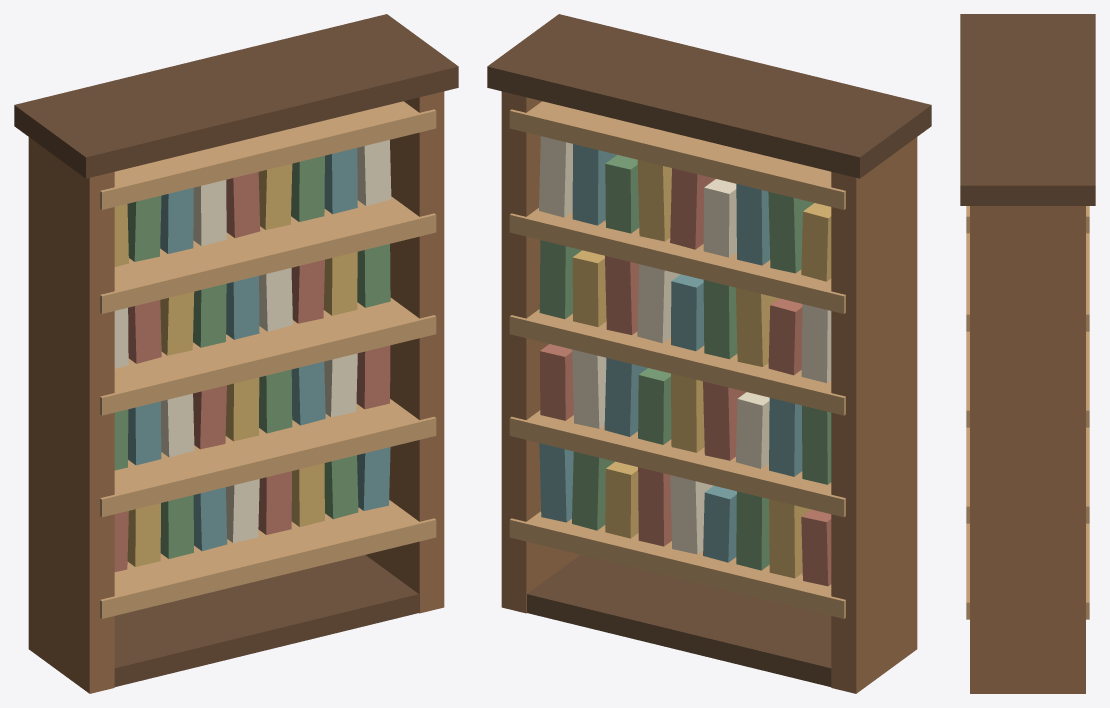
File: bookshelf.glb
3 renders of one model, left to right at view 1: azimuth 30°, elevation 25°; view 2: azimuth 150°, elevation 25°; view 3: azimuth 270°, elevation 25°, orthographic. The views are drawn at different scales.
Visible parts, largest first — view 1: bookshelf_woodLight, bookshelf_wood, bookshelf_woodDark, bookshelf_bookGreen, bookshelf_bookBlue, bookshelf_cream, bookshelf_bookGold, bookshelf_bookRed; view 2: bookshelf_wood, bookshelf_woodDark, bookshelf_woodLight, bookshelf_bookGreen, bookshelf_bookBlue, bookshelf_cream, bookshelf_bookGold, bookshelf_bookRed; view 3: bookshelf_wood, bookshelf_woodDark, bookshelf_woodLight.
Boxes of the visible parts, box(x1,y1,x2,y2) form: bookshelf_woodLight: box(100, 101, 436, 618); bookshelf_wood: box(28, 91, 444, 693); bookshelf_woodDark: box(14, 14, 458, 686); bookshelf_bookGreen: box(114, 155, 390, 558); bookshelf_bookBlue: box(128, 148, 390, 551); bookshelf_cream: box(114, 140, 391, 542); bookshelf_bookGold: box(114, 163, 357, 566); bookshelf_bookRed: box(114, 172, 390, 571); bookshelf_wood: box(501, 91, 917, 693); bookshelf_woodDark: box(487, 14, 931, 686); bookshelf_woodLight: box(509, 101, 845, 618); bookshelf_bookGreen: box(539, 155, 831, 570); bookshelf_bookBlue: box(539, 144, 802, 562); bookshelf_cream: box(539, 136, 831, 554); bookshelf_bookGold: box(572, 160, 831, 578); bookshelf_bookRed: box(539, 168, 831, 586); bookshelf_wood: box(970, 206, 1085, 693); bookshelf_woodDark: box(960, 14, 1095, 205); bookshelf_woodLight: box(966, 206, 1089, 619).
Size of the model in its own units: 1.65 by 2.3 by 0.55.
